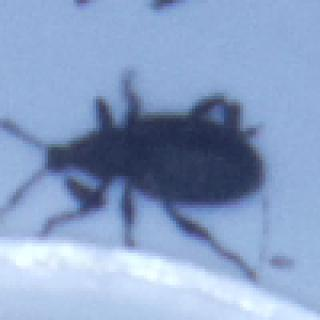bvw: (0, 68, 264, 284)
